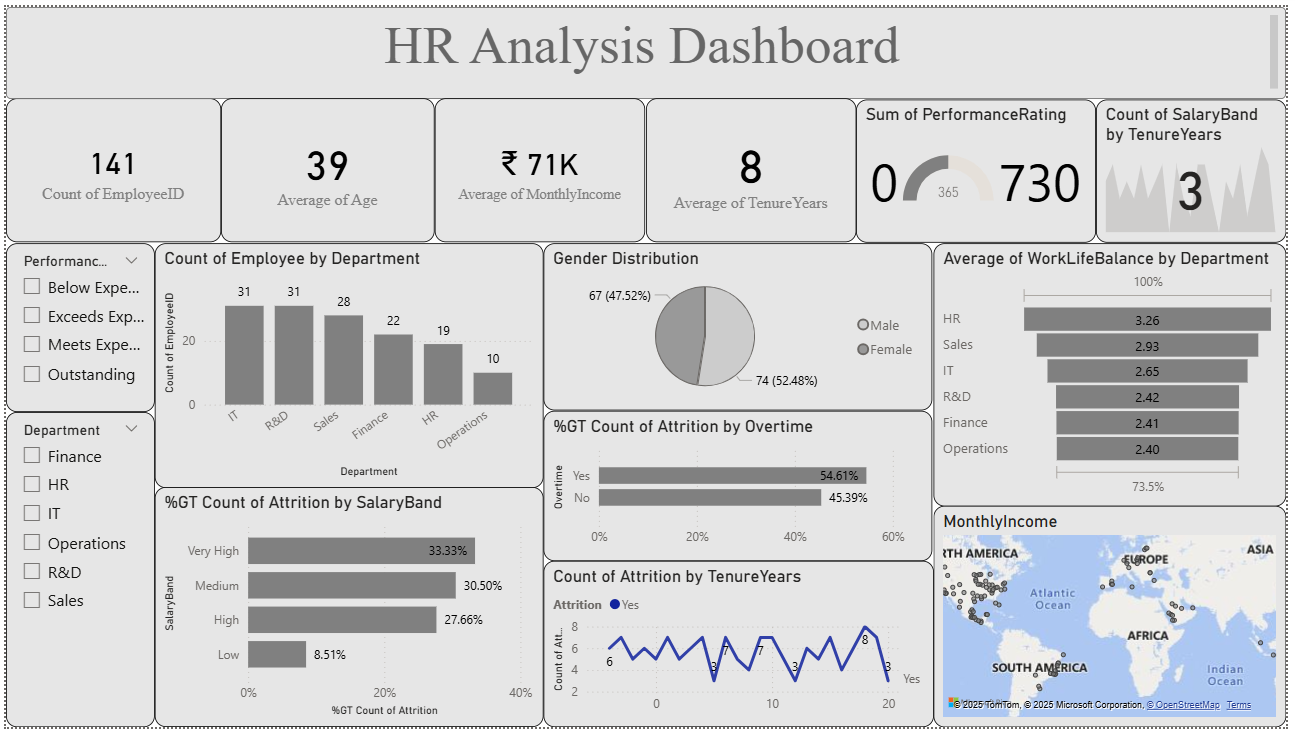

The page's visual inventory and layout, read from the dashboard file:
{"tool":"powerbi","page":{"name":"Page 1","canvas":[1280,720],"ordinal":0},"visuals":[{"type":"card","fields":{"Values":["Count(Sheet1.EmployeeID)"]},"box":[0,91.7,215.2,144.3],"z":0},{"type":"textbox","box":[0,0,1280.3,91.9],"z":1000},{"type":"card","fields":{"Values":["Avg(Sheet1.Age)"]},"box":[215.2,91.7,214,144.3],"z":2000},{"type":"card","fields":{"Values":["Avg(Sheet1.MonthlyIncome)"]},"box":[429.2,91.7,210.3,144.3],"z":3000},{"type":"card","fields":{"Values":["Avg(Sheet1.TenureYears)"]},"box":[639.5,91.7,210.3,144.3],"z":4000},{"type":"clusteredColumnChart","title":"Count of Employee by Department","fields":{"Category":["Sheet1.Department"],"Y":["CountNonNull(Sheet1.EmployeeID)"]},"box":[149.2,236,388.9,244.6],"z":5000},{"type":"pieChart","title":" Gender Distribution","fields":{"Category":["Sheet1.Gender"],"Y":["CountNonNull(Sheet1.Gender)"]},"box":[538,236,388.9,167.5],"z":6000},{"type":"barChart","fields":{"Category":["Sheet1.SalaryBand"],"Y":["CountNonNull(Sheet1.Attrition)"]},"box":[149.2,480.6,388.9,239.7],"z":7000},{"type":"lineChart","title":"Count of Attrition by TenureYears ","fields":{"Category":["Sheet1.TenureYears"],"Series":["Sheet1.Attrition"],"Y":["CountNonNull(Sheet1.Attrition)"]},"box":[537.5,553.8,390,166.2],"z":9000},{"type":"slicer","fields":{"Values":["Sheet1.PerformanceCategory"]},"box":[0,236,149.2,168.8],"z":10000},{"type":"slicer","fields":{"Values":["Sheet1.Department"]},"box":[0,404.8,149.2,315.5],"z":11000},{"type":"funnel","fields":{"Category":["Sheet1.Department"],"Y":["Avg(Sheet1.WorkLifeBalance)"]},"box":[927.1,235.7,352.9,262.9],"z":12000},{"type":"gauge","fields":{"Y":["Sum(Sheet1.PerformanceRating)"]},"box":[850,92.2,240,143.3],"z":13000},{"type":"map","fields":{"Category":["Sheet1.MonthlyIncome"]},"box":[927.1,498.6,352.9,221.4],"z":14000},{"type":"kpi","fields":{"Indicator":["CountNonNull(Sheet1.SalaryBand)"],"TrendLine":["Sheet1.TenureYears"]},"box":[1090,92.2,190,143.3],"z":14001},{"type":"barChart","fields":{"Category":["Sheet1.Overtime"],"Y":["CountNonNull(Sheet1.Attrition)"]},"box":[538,404,389,150],"z":14002}]}

Visuals, with their boxes in screenshot pixels (x1, y1, x2, y2), scaled from the page's 1280x720 canvas onto the 1295x732 screenshot:
card - Count(Sheet1.EmployeeID): 0:93:218:240
textbox: 0:0:1294:93
card - Avg(Sheet1.Age): 218:93:434:240
card - Avg(Sheet1.MonthlyIncome): 434:93:647:240
card - Avg(Sheet1.TenureYears): 647:93:860:240
"Count of Employee by Department" clusteredColumnChart: 151:240:544:489
" Gender Distribution" pieChart: 544:240:938:410
barChart - Sheet1.SalaryBand x CountNonNull(Sheet1.Attrition): 151:489:544:731
"Count of Attrition by TenureYears " lineChart: 544:563:938:731
slicer - Sheet1.PerformanceCategory: 0:240:151:412
slicer - Sheet1.Department: 0:412:151:731
funnel - Sheet1.Department x Avg(Sheet1.WorkLifeBalance): 938:240:1294:507
gauge - Sum(Sheet1.PerformanceRating): 860:94:1103:239
map - Sheet1.MonthlyIncome: 938:507:1294:731
kpi - CountNonNull(Sheet1.SalaryBand) x Sheet1.TenureYears: 1103:94:1294:239
barChart - Sheet1.Overtime x CountNonNull(Sheet1.Attrition): 544:411:938:563
